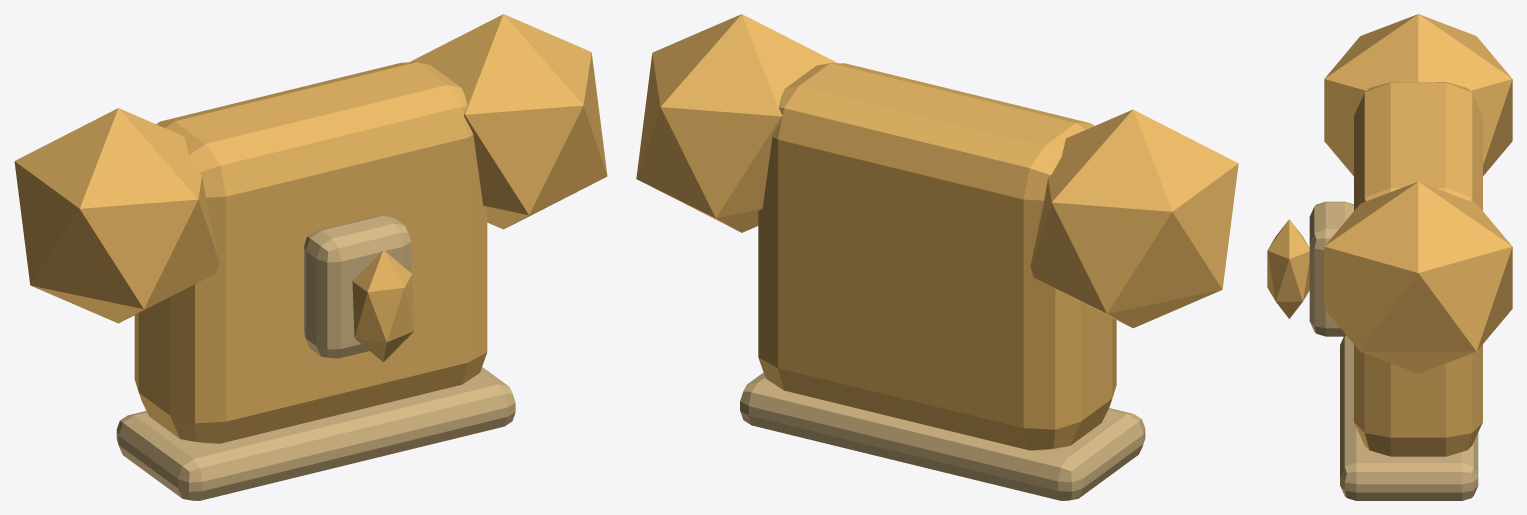
The model's file is arm_mercy_armor.glb.
The picture shows the model from 3 angles, left to right: view 1: azimuth 30°, elevation 25°; view 2: azimuth 150°, elevation 25°; view 3: azimuth 270°, elevation 25°; orthographic projection. The views are drawn at different scales.
Parts seen in each view (by area): view 1: arm_mercy_armor; view 2: arm_mercy_armor; view 3: arm_mercy_armor.
Part boxes in pixels (x1,y1,x2,y2): arm_mercy_armor: (14, 14, 607, 500); arm_mercy_armor: (636, 14, 1238, 500); arm_mercy_armor: (1267, 14, 1512, 500).
Bounding box in the file's own units: 1.25 × 0.805 × 0.5318.
